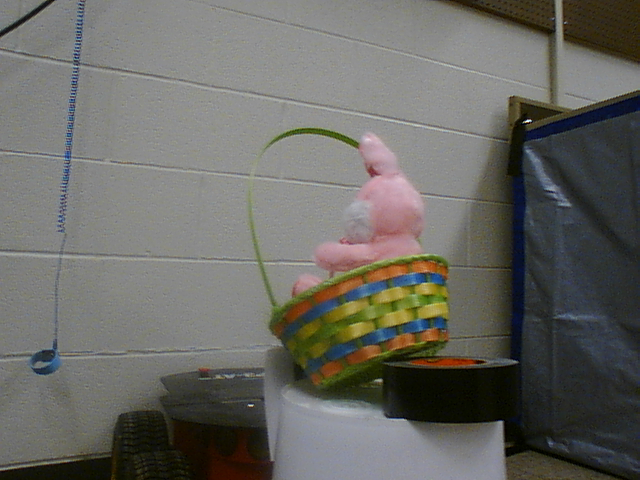bunny: (227, 118, 459, 386)
